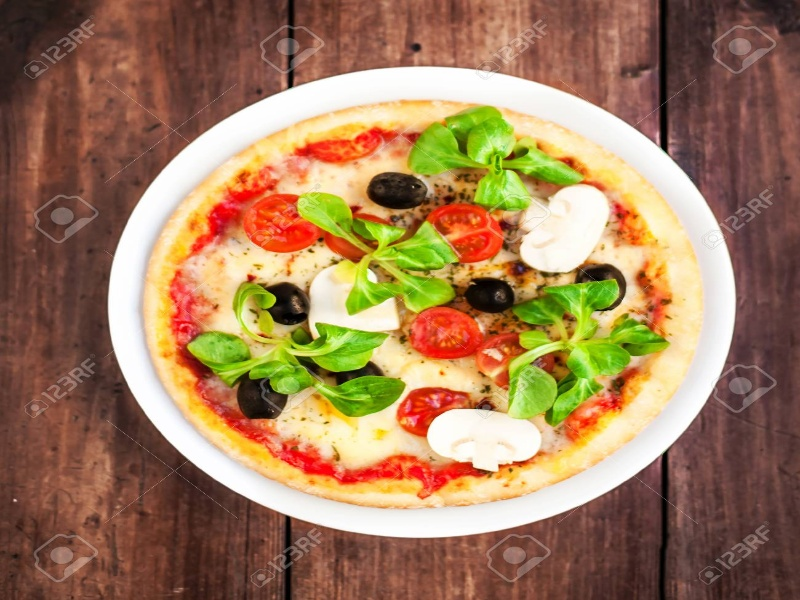olive noir: (362, 172, 434, 208), (233, 374, 290, 418), (261, 274, 311, 324), (466, 276, 516, 315)
